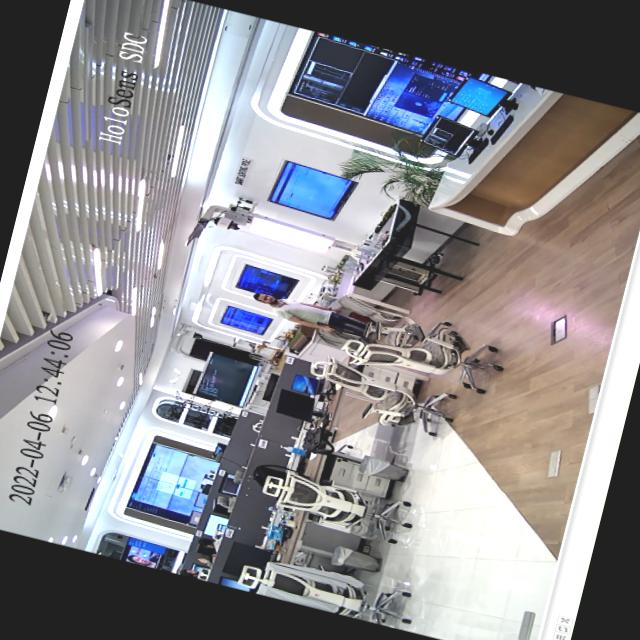long weapon: (308, 316, 374, 342)
